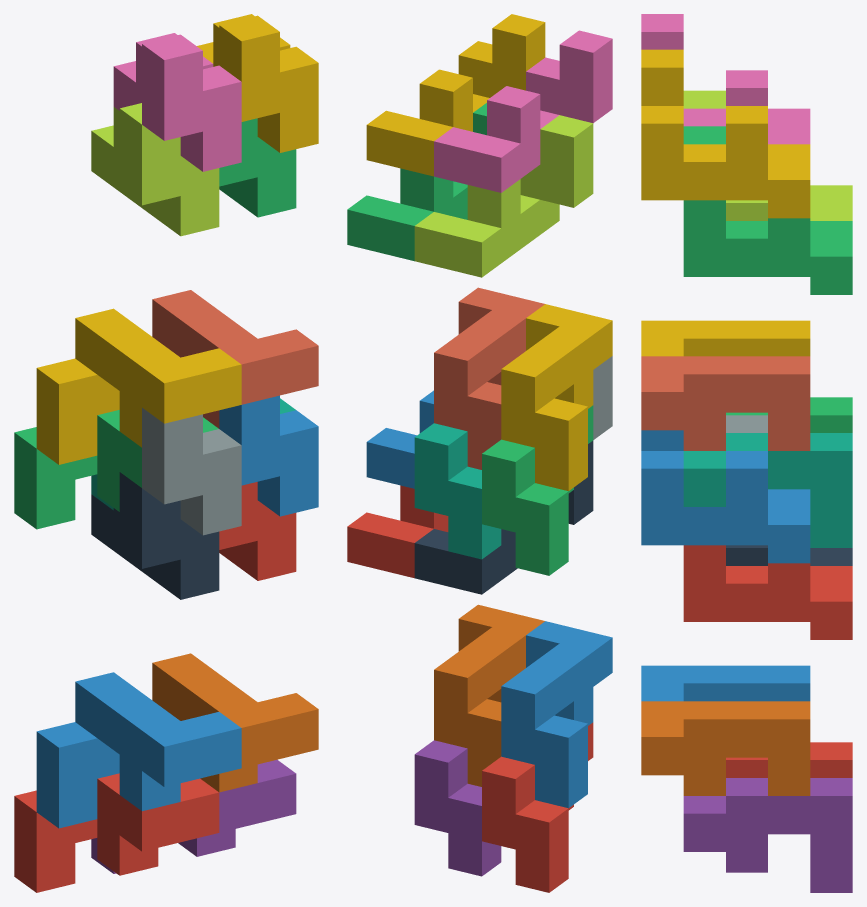
File: tiling.obj
3 renders of one model, left to right at view 1: azimuth 30°, elevation 25°; view 2: azimuth 150°, elevation 25°; view 3: azimuth 270°, elevation 25°, orthographic. The views are drawn at different scales.
Visible parts, largest first — view 1: copy_1_domain_2, copy_1_domain_4, copy_1_domain_1, copy_2_domain_4, copy_1_domain_6, copy_2_domain_8, copy_2_domain_3, copy_1_domain_8, copy_2_domain_2, copy_2_domain_1, copy_2_domain_6, copy_1_domain_3 (+3 smaller); view 2: copy_1_domain_2, copy_1_domain_4, copy_2_domain_4, copy_2_domain_3, copy_2_domain_8, copy_1_domain_8, copy_1_domain_6, copy_1_domain_1, copy_1_domain_3, copy_1_domain_7, copy_1_domain_5, copy_2_domain_7 (+4 smaller); view 3: copy_2_domain_8, copy_2_domain_6, copy_1_domain_6, copy_1_domain_8, copy_1_domain_5, copy_2_domain_7, copy_2_domain_5, copy_1_domain_7, copy_1_domain_2, copy_1_domain_4, copy_2_domain_4, copy_2_domain_3 (+4 smaller).
Boxes of the visible parts, <box> form: copy_1_domain_2: <box>36,672,241,828</box>; copy_1_domain_4: <box>36,308,241,464</box>; copy_1_domain_1: <box>14,773,219,892</box>; copy_2_domain_4: <box>113,33,241,171</box>; copy_1_domain_6: <box>152,653,318,792</box>; copy_2_domain_8: <box>197,14,318,152</box>; copy_2_domain_3: <box>91,103,219,236</box>; copy_1_domain_8: <box>152,290,318,428</box>; copy_2_domain_2: <box>142,407,241,535</box>; copy_2_domain_1: <box>91,472,219,599</box>; copy_2_domain_6: <box>219,395,318,516</box>; copy_1_domain_3: <box>14,410,218,529</box>; copy_1_domain_2: <box>501,621,612,808</box>; copy_1_domain_4: <box>501,304,612,490</box>; copy_2_domain_4: <box>434,30,612,192</box>; copy_2_domain_3: <box>414,115,593,277</box>; copy_2_domain_8: <box>366,14,545,176</box>; copy_1_domain_8: <box>434,287,544,469</box>; copy_1_domain_6: <box>434,604,544,786</box>; copy_1_domain_1: <box>482,722,593,892</box>; copy_1_domain_3: <box>482,405,593,575</box>; copy_1_domain_7: <box>414,423,501,559</box>; copy_1_domain_5: <box>414,740,501,876</box>; copy_2_domain_7: <box>347,103,486,261</box>; copy_2_domain_8: <box>641,49,810,218</box>; copy_2_domain_6: <box>641,430,810,563</box>; copy_1_domain_6: <box>641,701,810,795</box>; copy_1_domain_8: <box>641,356,810,450</box>; copy_1_domain_5: <box>683,778,852,892</box>; copy_2_domain_7: <box>683,126,852,294</box>; copy_2_domain_5: <box>683,545,852,639</box>; copy_1_domain_7: <box>683,433,852,547</box>; copy_1_domain_2: <box>641,665,810,701</box>; copy_1_domain_4: <box>641,320,810,356</box>; copy_2_domain_4: <box>641,14,810,144</box>; copy_2_domain_3: <box>683,90,852,220</box>.
Bounding box in the file's own units: 6 × 22 × 5.
